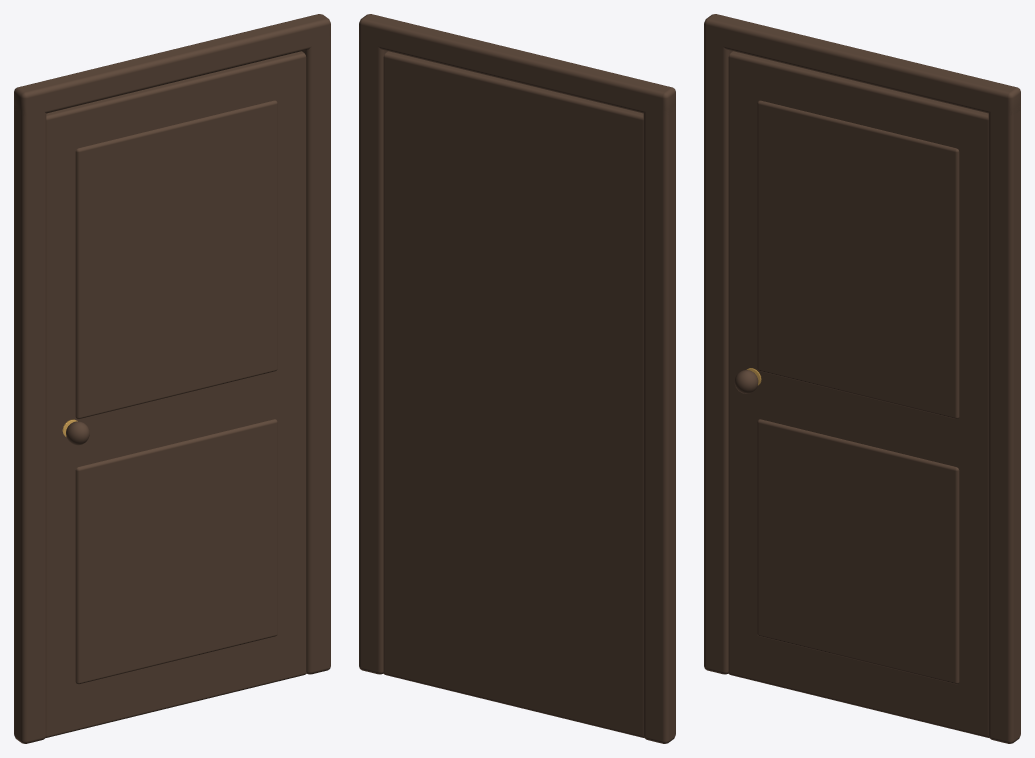
File: door.glb
3 views of the same model, side by side, from view 1: azimuth 30°, elevation 25°; view 2: azimuth 150°, elevation 25°; view 3: azimuth 330°, elevation 25° (orthographic).
Visible parts, largest first — view 1: door; view 2: door; view 3: door.
Part boxes in pixels (x1,y1,x2,y2): door: (14, 14, 330, 743); door: (359, 14, 675, 743); door: (704, 14, 1020, 743).
Bounding box in the file's own units: 1.09 × 2.19 × 0.1359.
